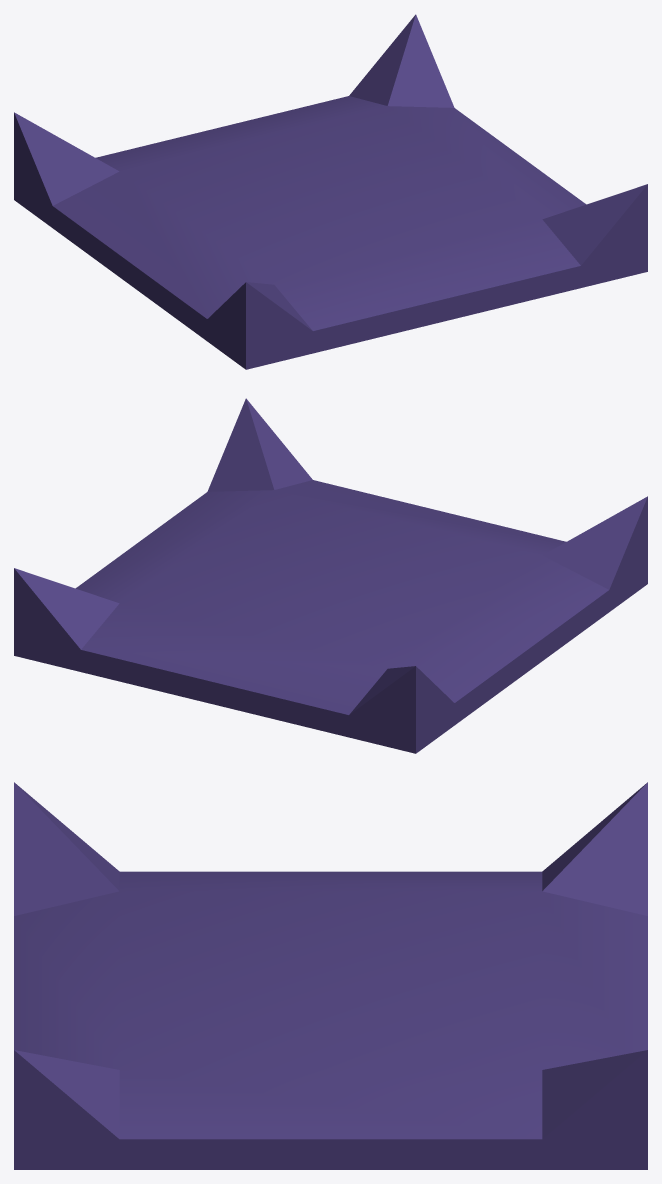
File: SpawnerPlatform.fbx
3 views of the same model, one above another, from view 1: azimuth 30°, elevation 25°; view 2: azimuth 150°, elevation 25°; view 3: azimuth 270°, elevation 25° (orthographic). The views are drawn at different scales.
Visible parts, largest first — view 1: SpawnerPlatform; view 2: SpawnerPlatform; view 3: SpawnerPlatform.
Boxes of the visible parts, x1=… form: SpawnerPlatform: x1=14, y1=14, x2=647, y2=369; SpawnerPlatform: x1=14, y1=398, x2=647, y2=753; SpawnerPlatform: x1=14, y1=782, x2=647, y2=1169.
Size of the model in its own units: 251 by 52.41 by 251.
